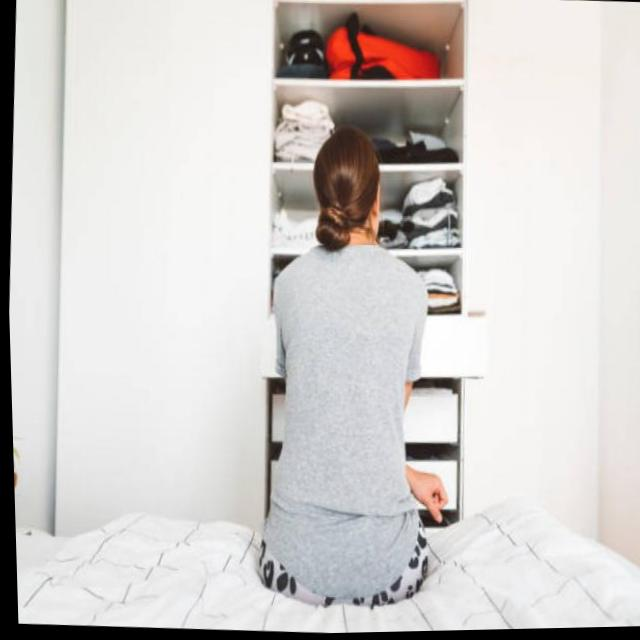no helmet: (283, 100, 398, 265)
